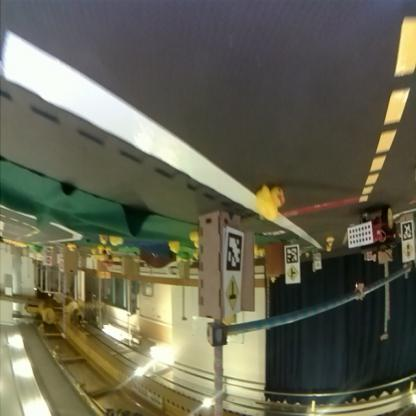Duckie: (257, 187, 285, 221), (110, 236, 124, 247), (192, 233, 200, 249), (170, 242, 180, 254), (67, 244, 77, 252), (100, 238, 107, 245), (328, 239, 334, 247)
Duckiebot: (348, 208, 398, 252)
Intersection sign: (224, 275, 241, 313), (287, 268, 299, 283)
QR code: (226, 230, 245, 270), (402, 223, 414, 242), (286, 247, 300, 263)
Signal sign: (403, 243, 415, 261)
Traffic light: (356, 284, 366, 302)
